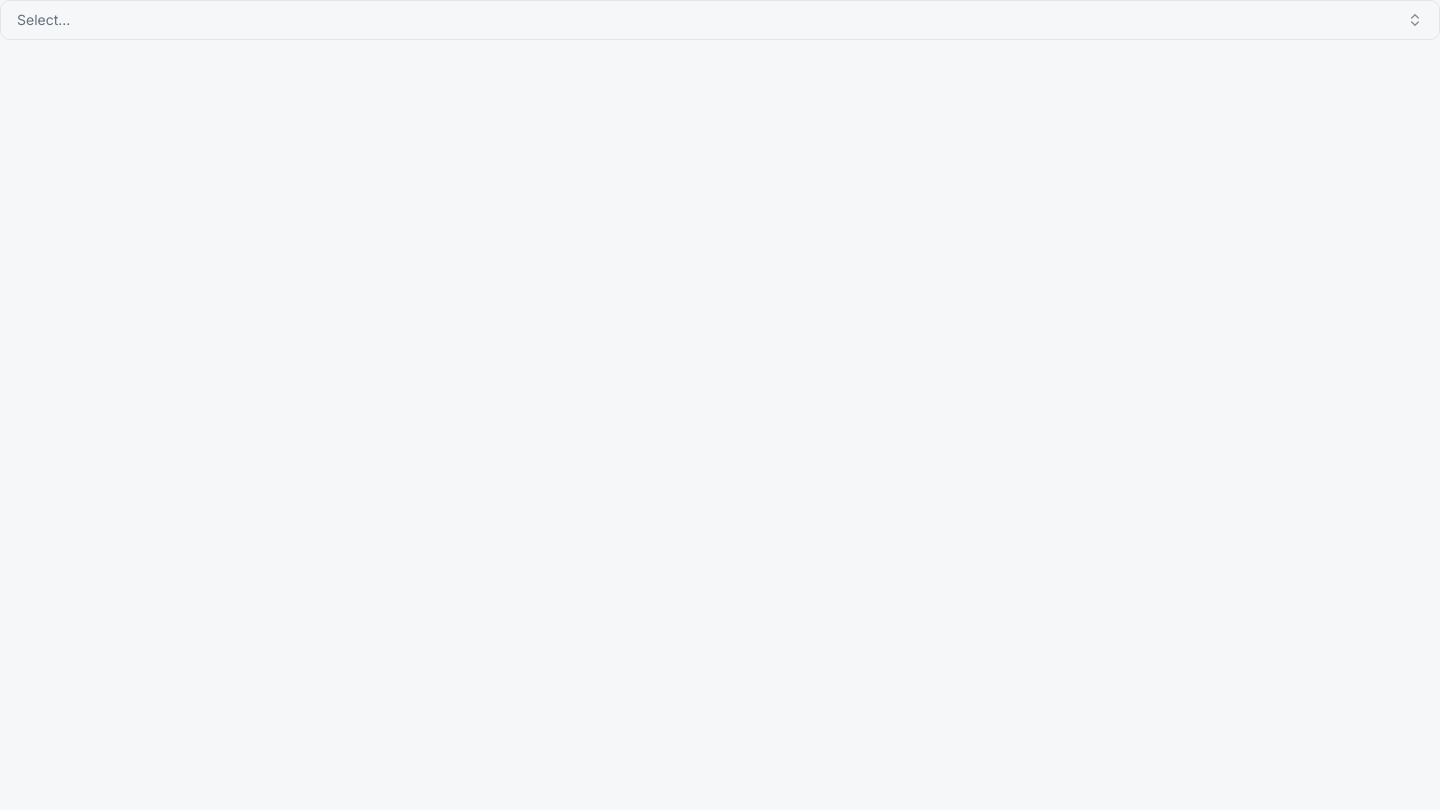
Test: Combobox in server-search mode › lists what the server matched, even when the name does not contain the term
Later steps or results of the test are not shown.
Click the dropdown. click: (44, 20)
box: [0, 0, 1439, 40]
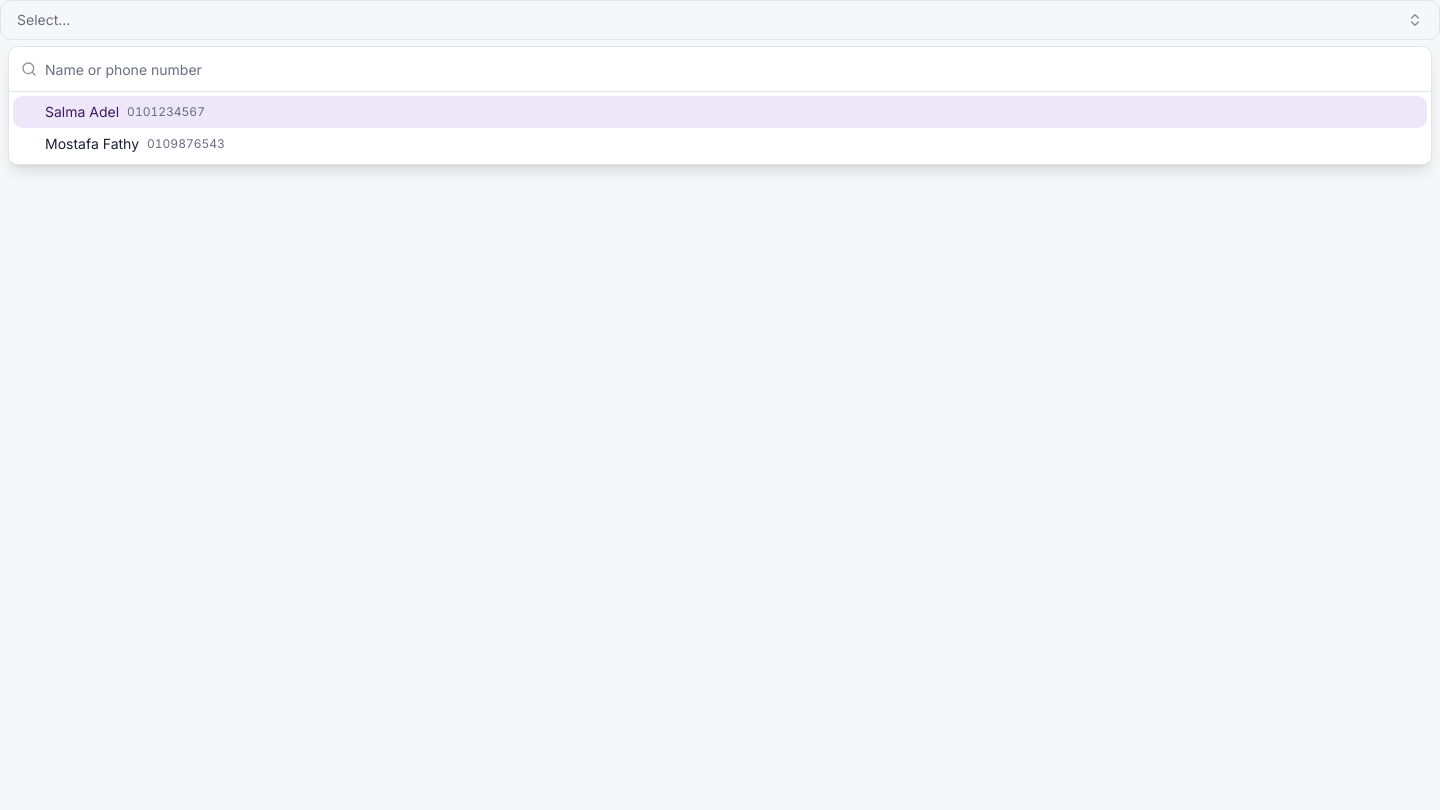
Expected: the text "Salma Adel" is shown, [45, 102, 119, 122]
